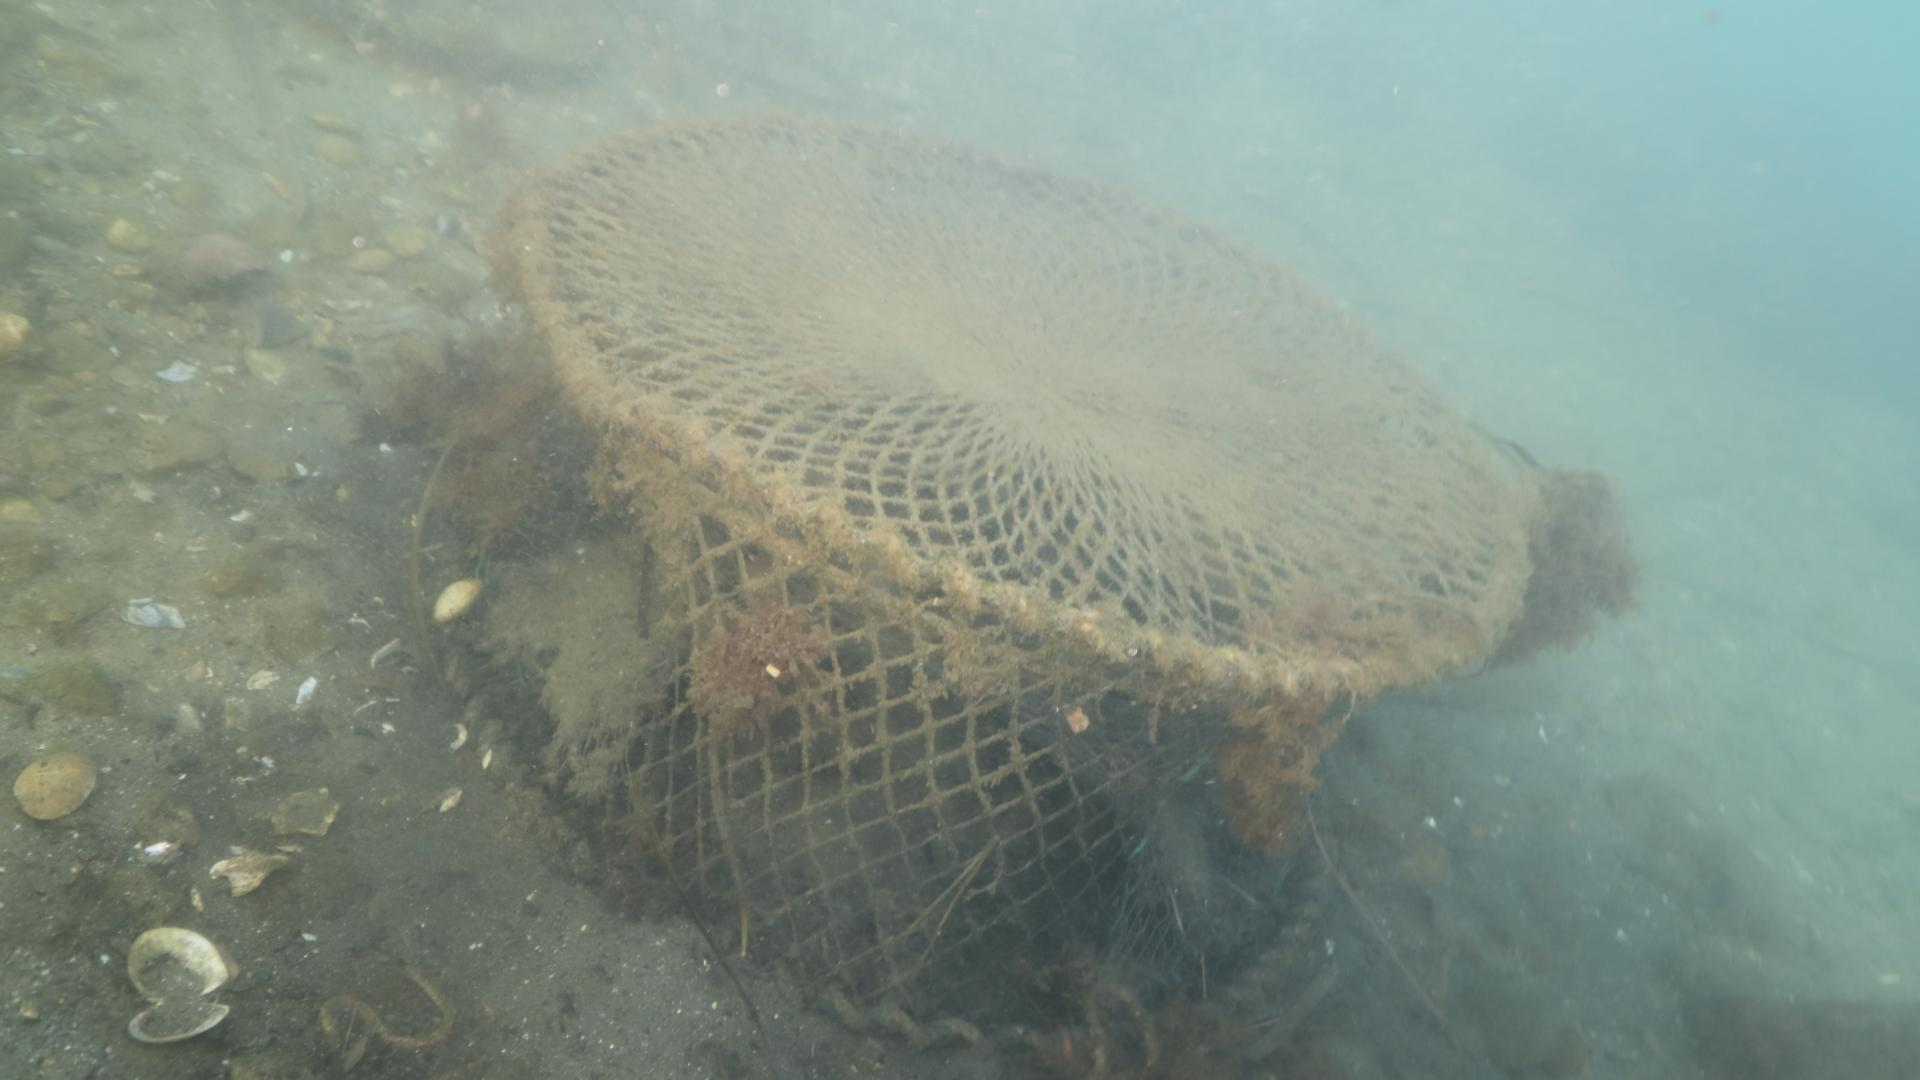circular fish trap: (440, 113, 1531, 1063)
